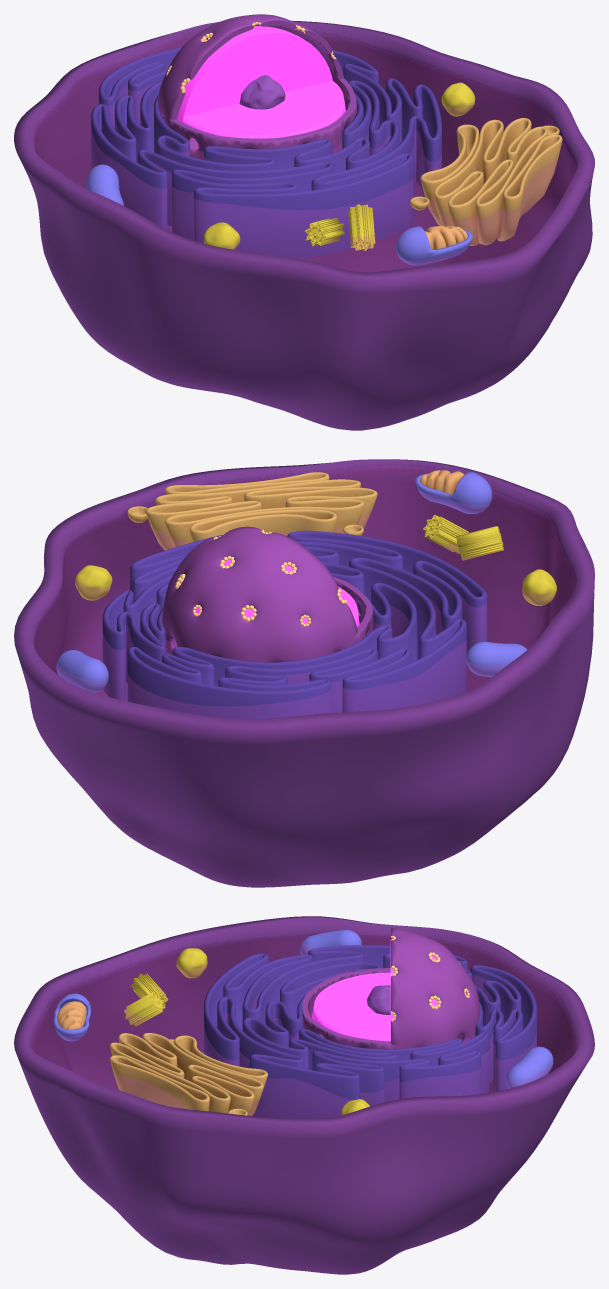
3 renders of one model, top to bottom at view 1: azimuth 30°, elevation 25°; view 2: azimuth 150°, elevation 25°; view 3: azimuth 270°, elevation 25°, orthographic. The views are drawn at different scales.
Visible parts, largest first — view 1: Sphere, BezierCurve, Sphere.001, Roundcube, BezierCurve.002, Icosphere, Roundcube.000, Sphere.002, Roundcube.001, Sphere.005; view 2: Sphere, BezierCurve, Sphere.001, Icosphere, BezierCurve.002, Sphere.002, Roundcube.000, Icosphere.002, Sphere.005; view 3: Sphere, BezierCurve, Sphere.001, Icosphere, BezierCurve.002, Roundcube, Sphere.002, Roundcube.000, Sphere.005, Roundcube.001.
Boxes of the visible parts, left/top/right/bottom form: Sphere: left=14, top=20, right=594, bottom=430; BezierCurve: left=91, top=47, right=441, bottom=258; Sphere.001: left=35, top=31, right=576, bottom=271; Roundcube: left=177, top=26, right=345, bottom=139; BezierCurve.002: left=410, top=118, right=562, bottom=245; Icosphere: left=158, top=14, right=357, bottom=159; Roundcube.000: left=204, top=82, right=475, bottom=250; Sphere.002: left=86, top=164, right=472, bottom=265; Roundcube.001: left=239, top=75, right=285, bottom=109; Sphere.005: left=424, top=225, right=467, bottom=249; Sphere: left=14, top=459, right=594, bottom=887; BezierCurve: left=102, top=530, right=487, bottom=718; Sphere.001: left=34, top=466, right=575, bottom=718; Icosphere: left=162, top=526, right=373, bottom=662; BezierCurve.002: left=127, top=472, right=377, bottom=550; Sphere.002: left=56, top=471, right=527, bottom=692; Roundcube.000: left=75, top=514, right=556, bottom=605; Icosphere.002: left=175, top=530, right=347, bottom=626; Sphere.005: left=420, top=470, right=464, bottom=494; Sphere: left=14, top=916, right=594, bottom=1274; BezierCurve: left=204, top=945, right=536, bottom=1118; Sphere.001: left=31, top=936, right=578, bottom=1117; Icosphere: left=302, top=928, right=479, bottom=1049; BezierCurve.002: left=110, top=1033, right=267, bottom=1115; Roundcube: left=312, top=940, right=466, bottom=1041; Sphere.002: left=53, top=930, right=553, bottom=1088; Roundcube.000: left=124, top=948, right=369, bottom=1115; Sphere.005: left=57, top=1001, right=86, bottom=1029; Roundcube.001: left=367, top=985, right=390, bottom=1014.
Bounding box in the file's own units: 5.96 × 3.98 × 7.05.
Materials: 11 (8 with a texture image).
